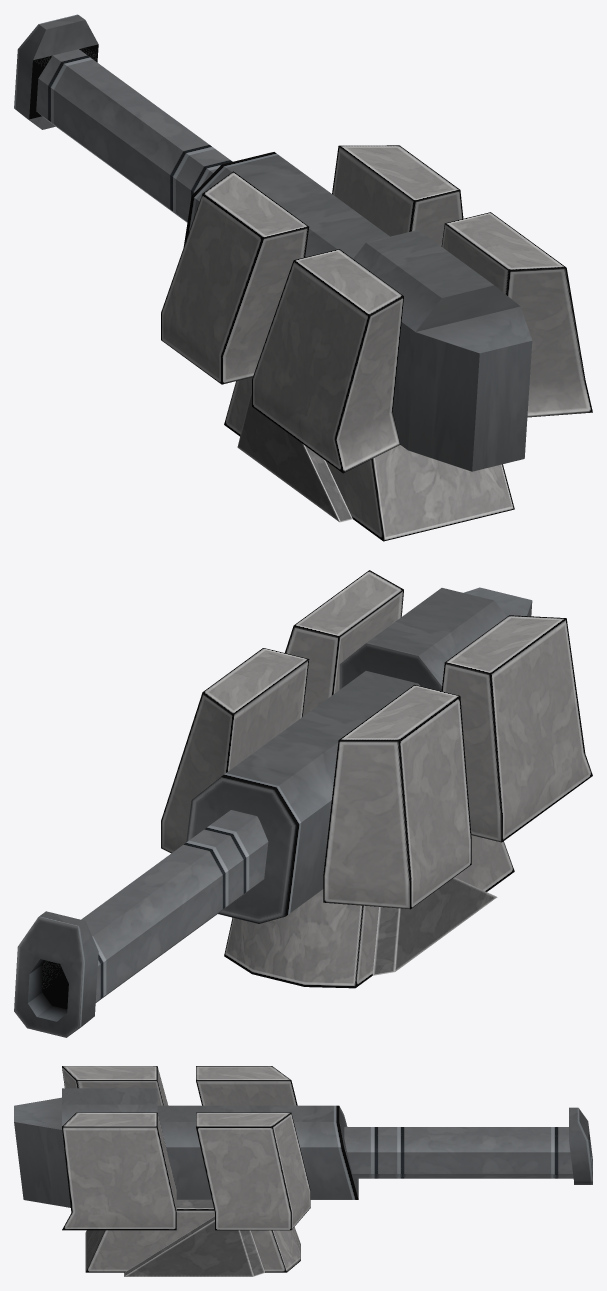
The model's file is Gun Turret_Weapon.fbx.
3 renders of one model, top to bottom at view 1: azimuth 30°, elevation 25°; view 2: azimuth 150°, elevation 25°; view 3: azimuth 270°, elevation 25°, orthographic. The views are drawn at different scales.
Parts seen in each view (by area): view 1: polySurface95; view 2: polySurface95; view 3: polySurface95.
Boxes of the visible parts, x1,y1,x2,y2 form: polySurface95: (14, 14, 592, 541); polySurface95: (14, 570, 592, 1037); polySurface95: (14, 1066, 592, 1276).
Size of the model in its own units: 41.8 by 39.6 by 133.
1 material, 1 textured.
